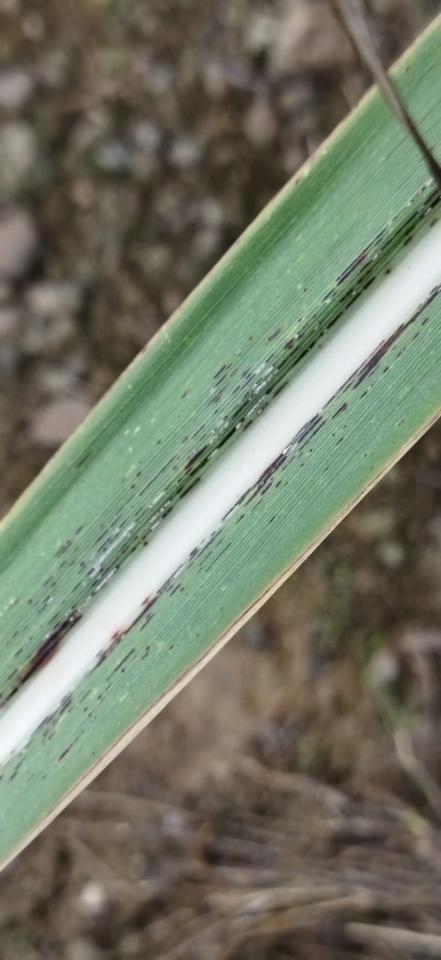Rust: (188, 274, 378, 477), (219, 338, 386, 523), (29, 505, 175, 666), (182, 344, 301, 472), (341, 284, 440, 395), (70, 485, 170, 594), (90, 483, 186, 589), (86, 577, 175, 678), (0, 613, 84, 710), (355, 186, 440, 278), (243, 414, 324, 508), (335, 215, 398, 283), (322, 235, 385, 301), (281, 418, 329, 472), (235, 360, 279, 408), (184, 524, 227, 572), (138, 453, 178, 498), (403, 193, 440, 236), (40, 604, 77, 643), (241, 350, 276, 391), (104, 647, 136, 683), (45, 692, 75, 725), (155, 562, 185, 595), (405, 176, 435, 208), (204, 541, 233, 573), (55, 734, 81, 763), (206, 380, 232, 408), (82, 560, 106, 588), (178, 475, 202, 500), (416, 284, 439, 310), (28, 713, 51, 738), (232, 370, 254, 396), (209, 413, 230, 435), (137, 610, 157, 633), (271, 379, 290, 401), (91, 527, 110, 549), (330, 401, 350, 421), (95, 534, 113, 554), (57, 697, 74, 716), (356, 267, 373, 286), (198, 549, 214, 568), (254, 400, 271, 417), (265, 326, 282, 343), (339, 286, 355, 304), (190, 423, 206, 441), (57, 541, 73, 559), (259, 480, 275, 497), (212, 363, 227, 381), (250, 497, 265, 513), (240, 417, 255, 433), (213, 372, 228, 388), (47, 609, 61, 626), (168, 582, 182, 598), (367, 363, 381, 378), (109, 513, 123, 528), (79, 688, 92, 704), (188, 547, 201, 563), (14, 755, 27, 770), (139, 593, 152, 608), (59, 689, 72, 703), (179, 387, 192, 401), (7, 667, 20, 681), (116, 516, 130, 529), (73, 522, 86, 536), (42, 574, 55, 588), (109, 627, 121, 642), (241, 364, 253, 379), (283, 336, 295, 351), (12, 646, 25, 659), (234, 513, 246, 527), (53, 545, 65, 559), (395, 346, 407, 359), (402, 234, 414, 247), (428, 215, 440, 228), (8, 769, 19, 781), (188, 545, 199, 557), (77, 563, 88, 575), (133, 505, 144, 517), (114, 505, 126, 516), (37, 603, 48, 615), (411, 330, 422, 341), (46, 730, 57, 741), (125, 493, 136, 504), (41, 726, 51, 738), (229, 367, 239, 379), (358, 390, 368, 401), (268, 514, 278, 525), (94, 648, 104, 659), (198, 431, 207, 443), (335, 436, 344, 447), (287, 340, 296, 351), (11, 629, 20, 640), (69, 556, 78, 567), (420, 316, 429, 326), (274, 479, 284, 488), (140, 651, 149, 661), (166, 583, 175, 593), (296, 331, 305, 341), (180, 435, 189, 445), (215, 538, 224, 547), (103, 683, 112, 692), (213, 395, 222, 404), (184, 467, 193, 476), (42, 594, 51, 603), (382, 365, 390, 375), (135, 469, 143, 479), (59, 559, 67, 569), (397, 419, 406, 427), (297, 450, 305, 459), (145, 611, 153, 620), (383, 268, 392, 276), (155, 437, 163, 446), (170, 463, 178, 472), (120, 475, 127, 485), (322, 465, 330, 473), (390, 344, 398, 352), (294, 330, 302, 338), (59, 598, 67, 606), (96, 693, 103, 702), (176, 476, 183, 485), (50, 579, 57, 588), (66, 705, 73, 714), (226, 362, 233, 370), (97, 522, 105, 529), (33, 599, 40, 607), (86, 711, 93, 719), (298, 462, 305, 469), (179, 586, 186, 593), (195, 632, 202, 639), (167, 644, 174, 651), (302, 287, 309, 294), (296, 317, 303, 324), (142, 540, 149, 547), (79, 560, 86, 567), (113, 532, 120, 539), (21, 625, 28, 632), (213, 408, 219, 416), (108, 538, 114, 546), (283, 480, 289, 487), (83, 706, 89, 713), (210, 530, 216, 537), (200, 538, 206, 545), (311, 313, 317, 320), (130, 483, 136, 490), (27, 598, 33, 605), (341, 424, 347, 430), (144, 646, 150, 652), (120, 667, 126, 673), (247, 336, 253, 342), (102, 546, 108, 552), (65, 539, 71, 545), (92, 715, 98, 721), (79, 729, 85, 735), (138, 459, 143, 465), (28, 635, 33, 641), (370, 383, 375, 388), (331, 432, 336, 437), (363, 453, 368, 458), (308, 448, 313, 453), (301, 325, 306, 330), (89, 719, 94, 724), (91, 751, 96, 756)
Yellow: (0, 407, 440, 871), (0, 82, 378, 529), (386, 12, 440, 77)
